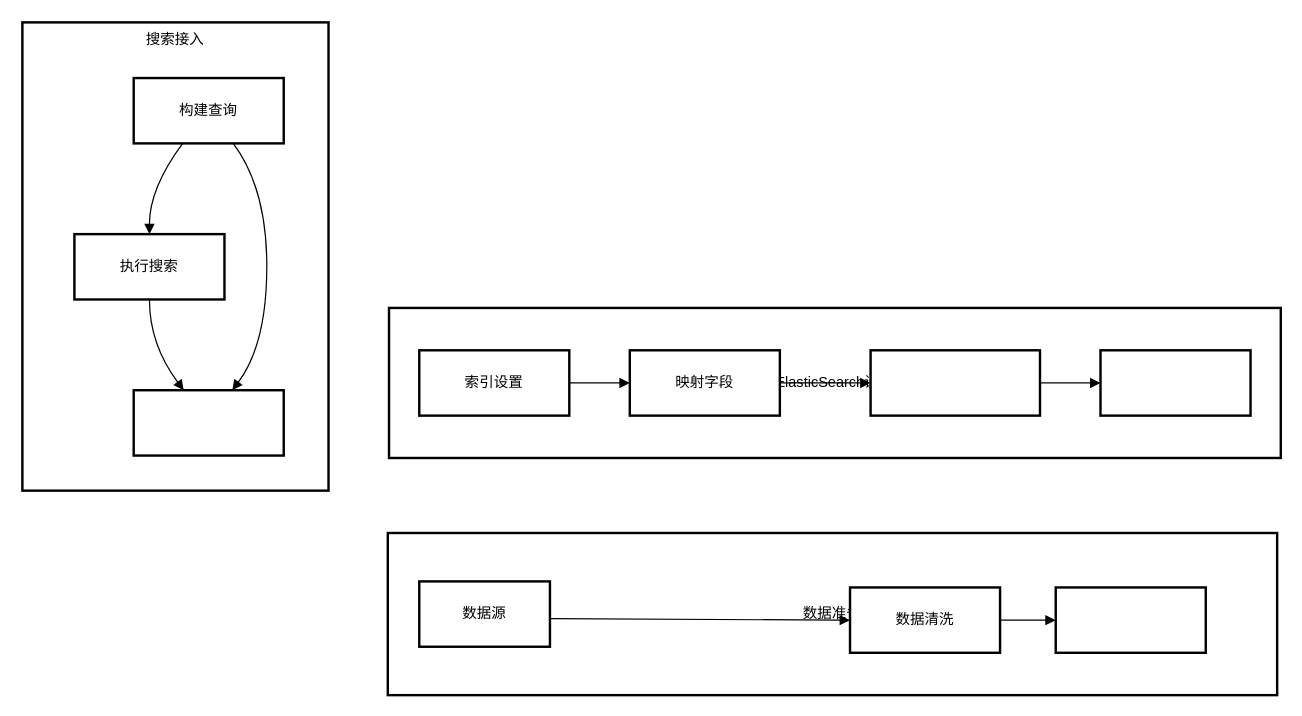
Some shapes in this 1302 by 716 pixel diagram are drawn without their labels. Here are the shapes that lost their labels. From the top down, the centre of each, then its label:
the point at 955,382: 设置分词器
the point at 1175,382: 创建索引
the point at 208,422: 处理结果
the point at 1130,619: 数据整合
